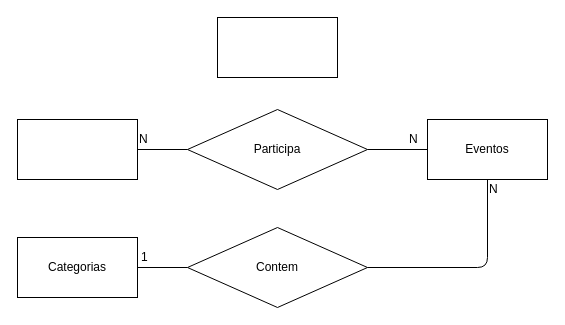
Image size: 565x325. Some labels were removed from this diagram. The centre of each missing label's shape, as x and y in pixels:
Conceitual: point 277,47
Usuários: point 77,149
